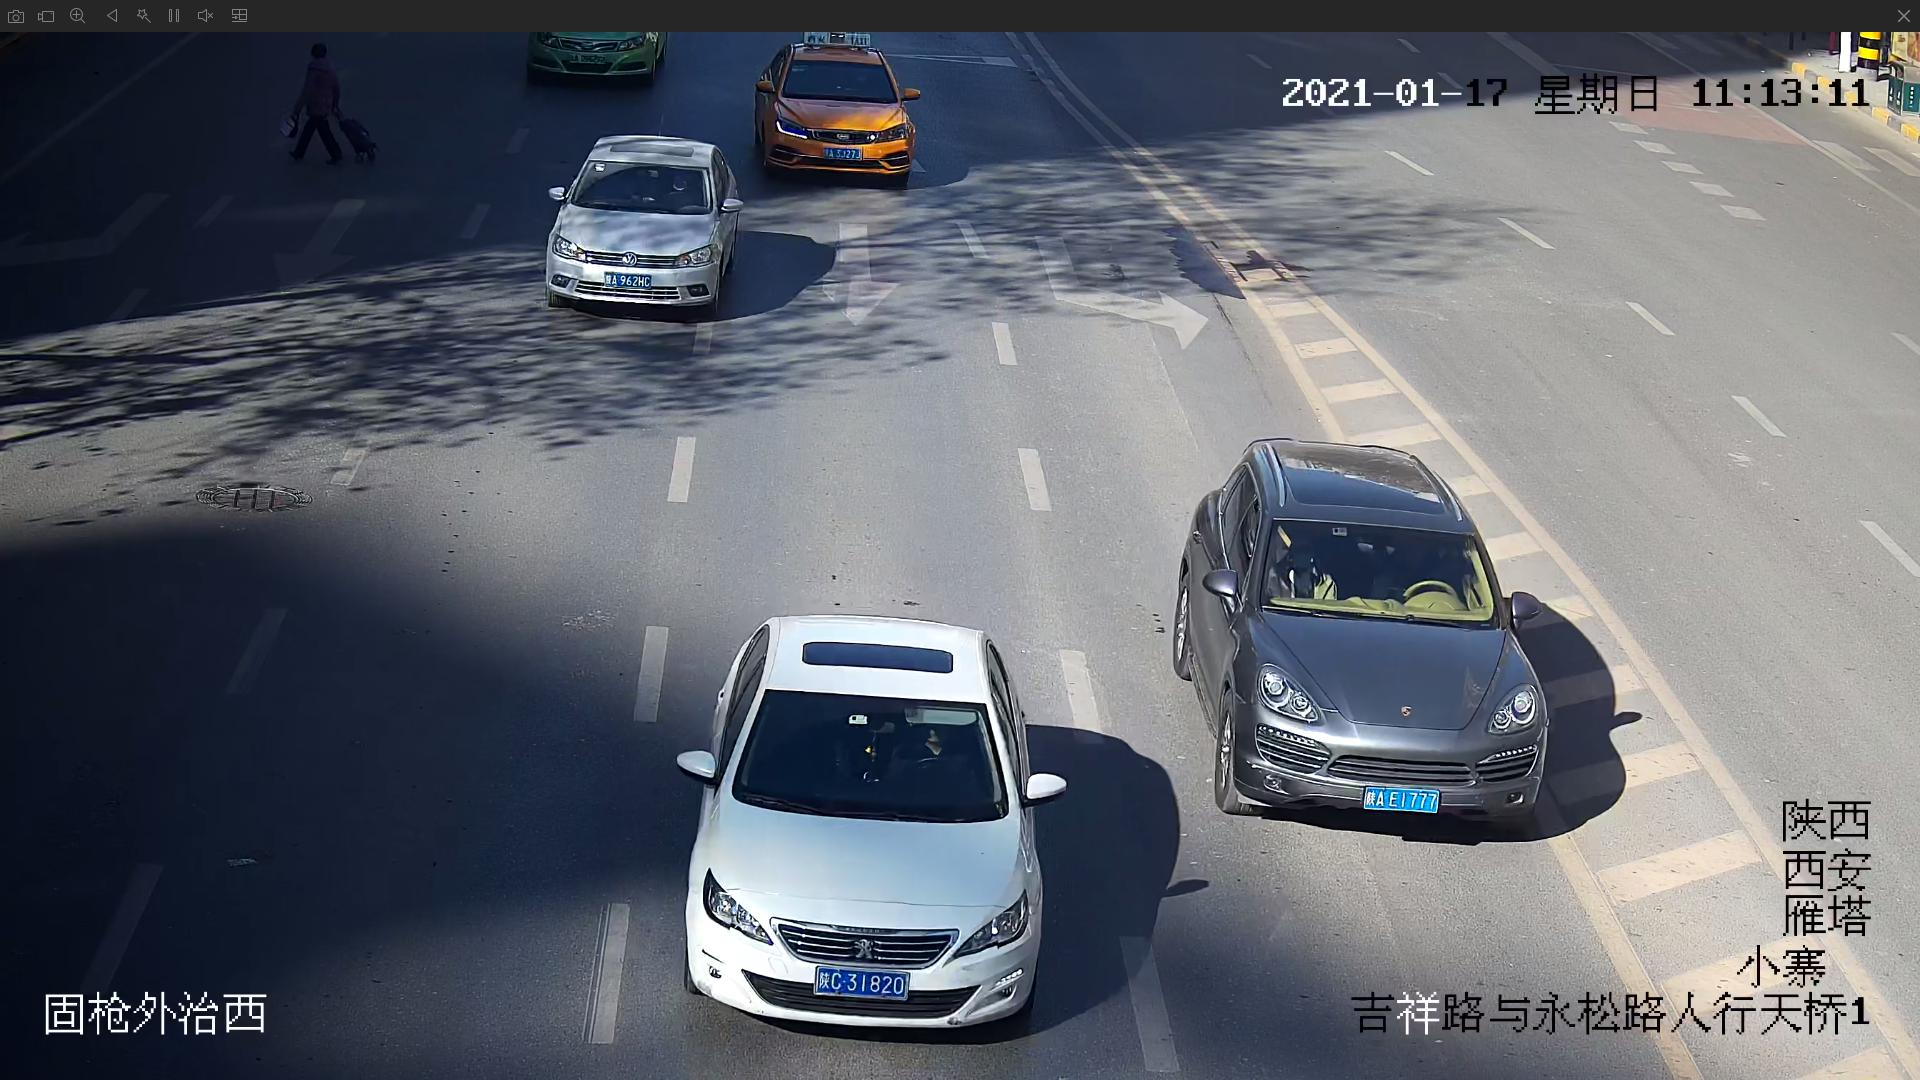dark-gray: (1176, 434, 1557, 837)
orange: (756, 32, 918, 193)
white: (673, 607, 1072, 1043), (539, 137, 741, 314)
